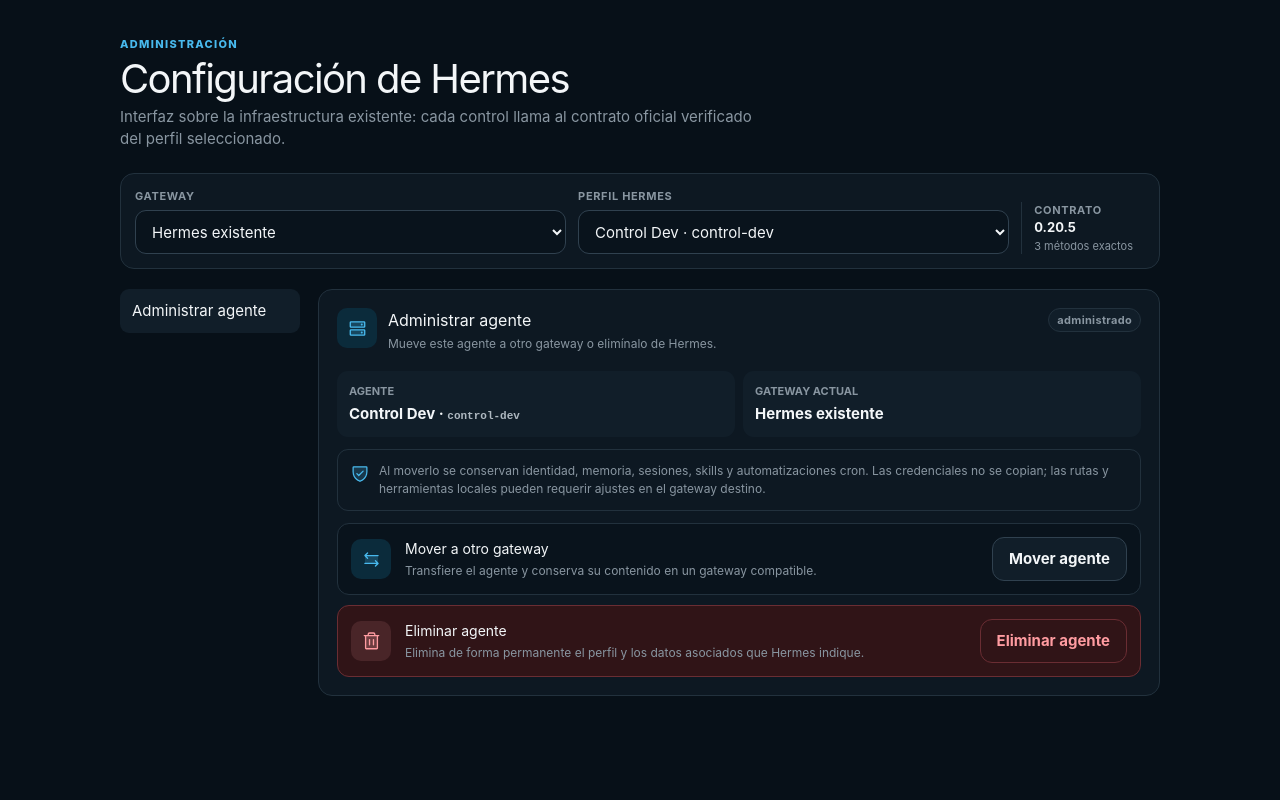
Test: administración de perfil guiada por capacidades › shows a rejected move inside the open dialog
This screenshot has width=1280, height=800.
Click the button "Administrar agente": (210, 311) [120,289,300,333]
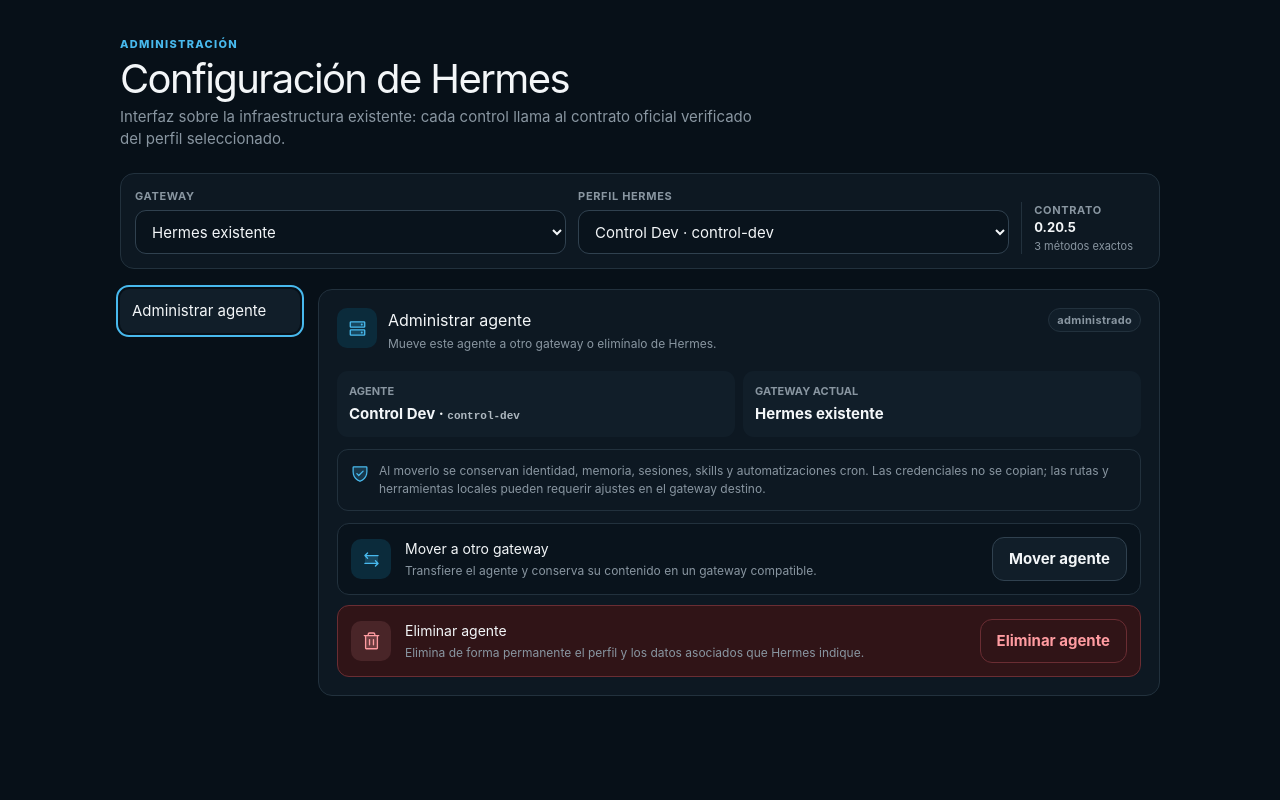
Click the button "Mover agente": (1060, 559) [992,537,1127,581]
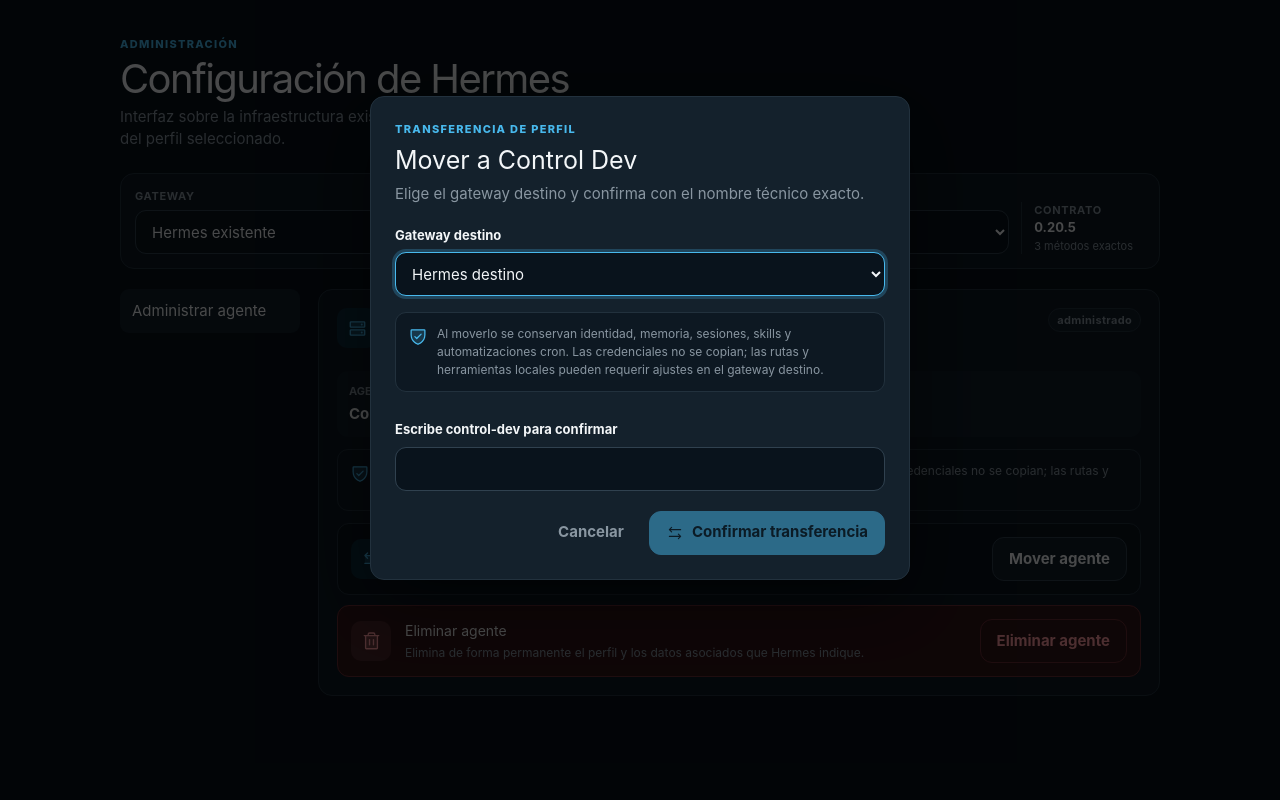
In the field labelled "Escribe control-dev para confirmar": (640, 468) [395,446,885,490], type "control-dev"
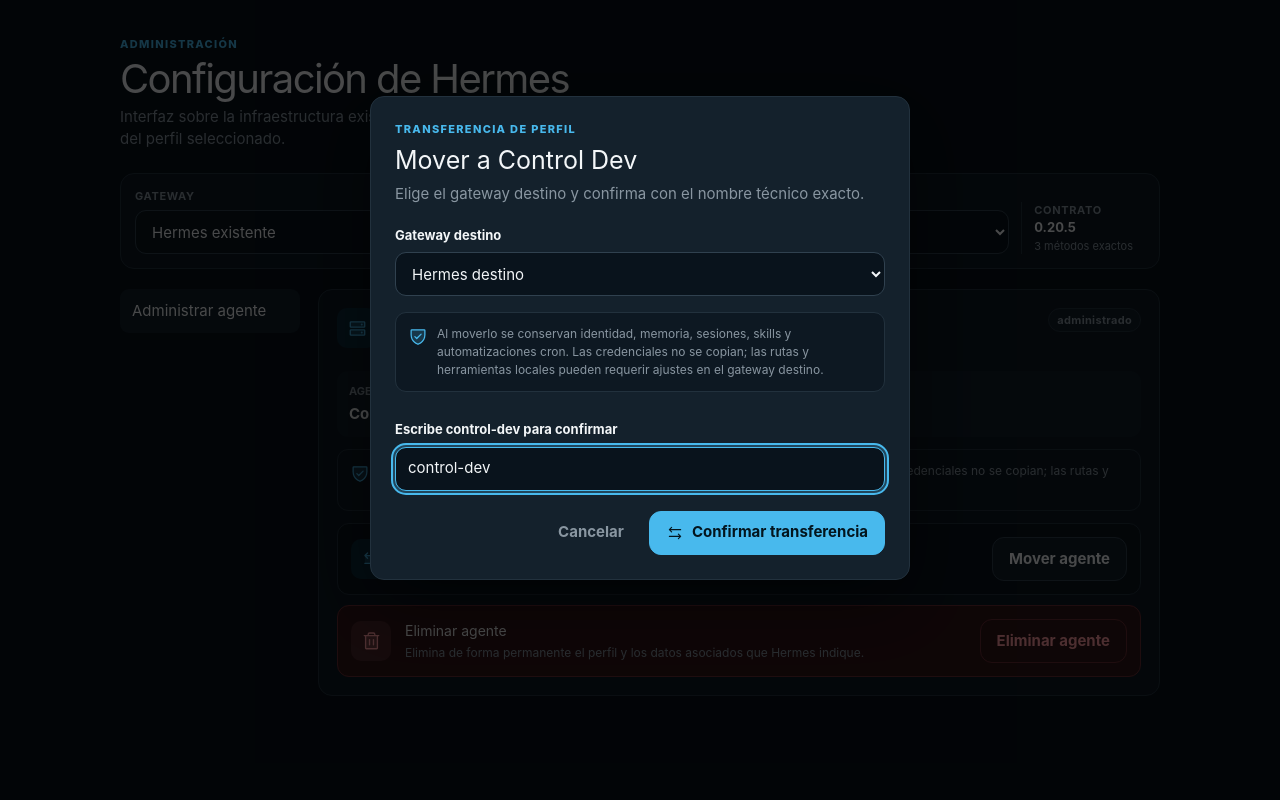
Click the button "Confirmar transferencia": (767, 532) [649,510,885,554]
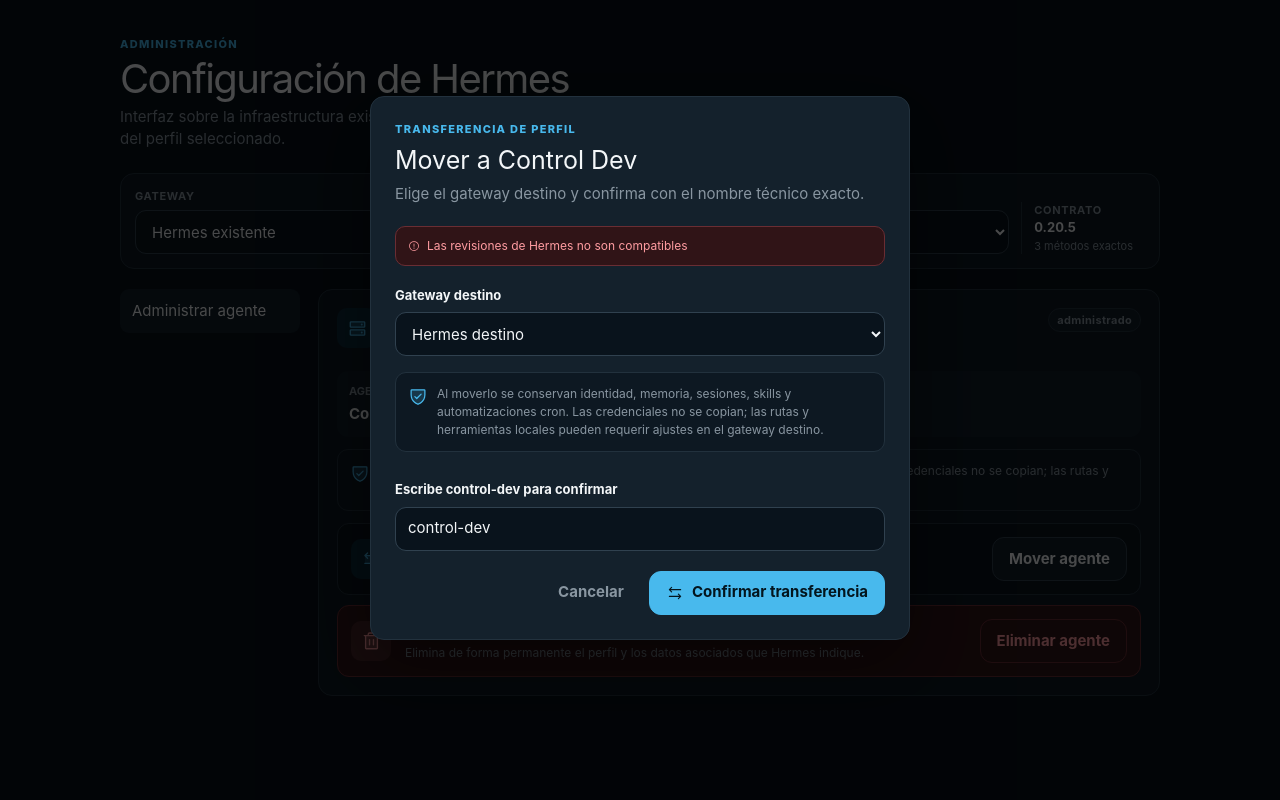
Expected: the dialog "Mover a Control Dev" is shown
Expected: the message reads "Las revisiones de Hermes no son compatibles", [427,238,688,252]
